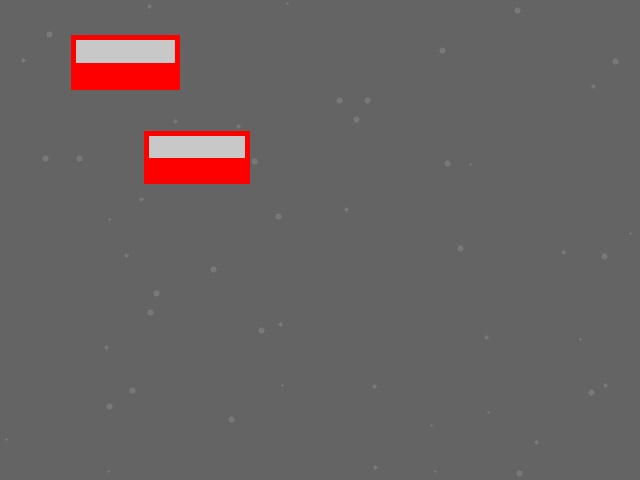car: (71, 35, 179, 89), (144, 131, 249, 183)
